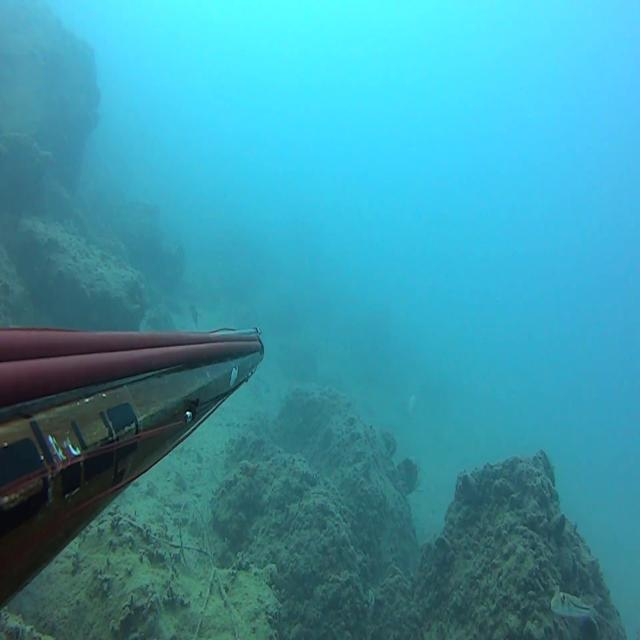Balon Baligi: (552, 591, 604, 633)
